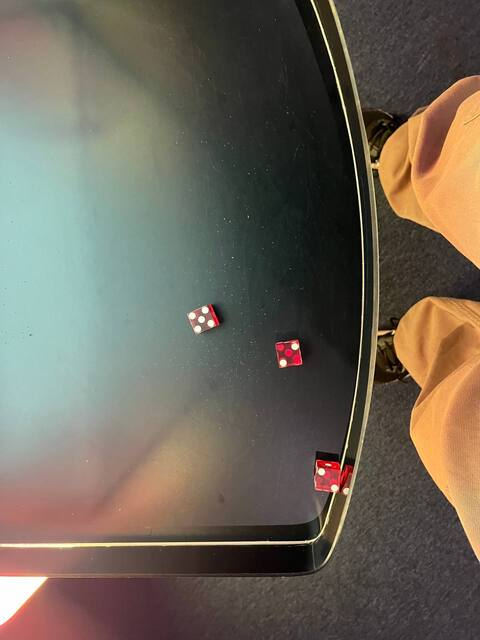five: (183, 301, 220, 338)
two: (272, 338, 305, 371), (312, 464, 344, 495)
